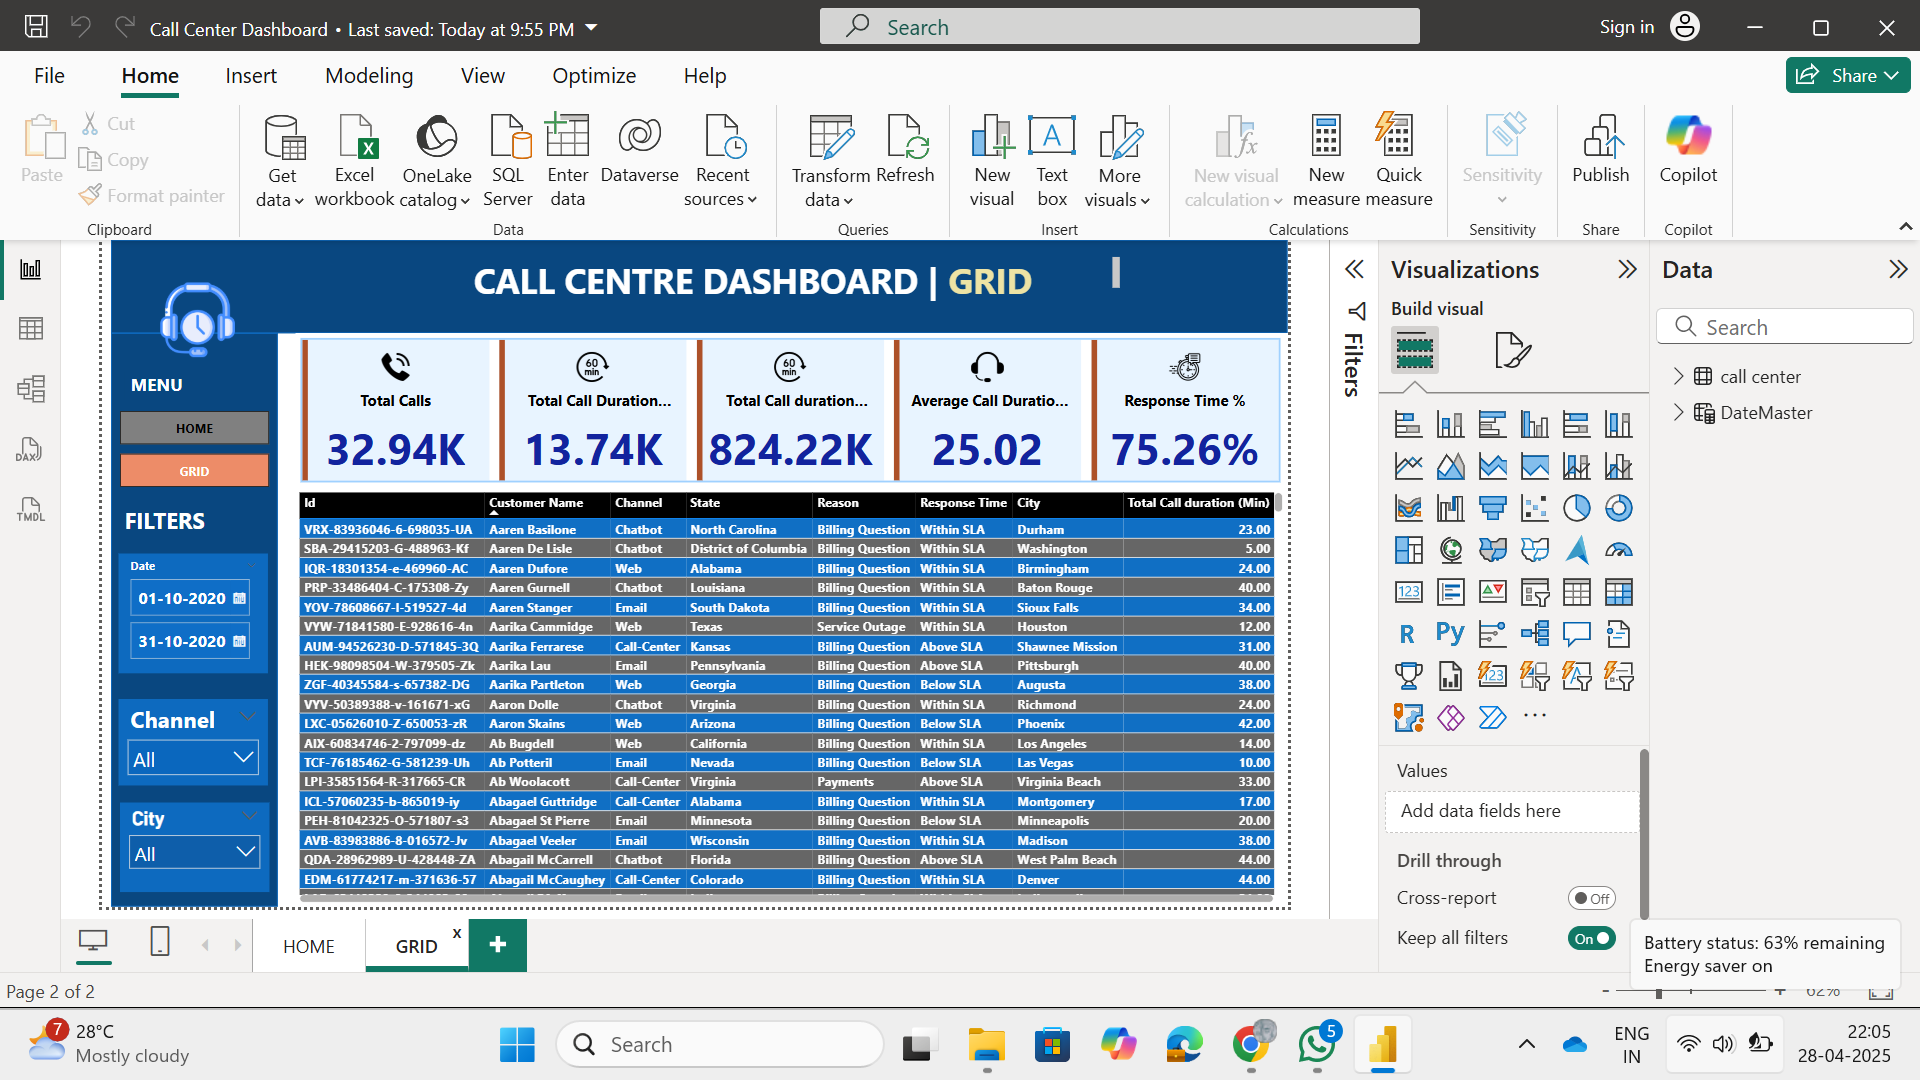

What the dashboard file says about the page in this screenshot:
{"tool":"powerbi","page":{"name":"GRID","canvas":[1280,720],"ordinal":1},"visuals":[{"type":"shape","box":[10.1,0,1269.9,100.8],"z":0},{"type":"textbox","box":[396,13,707,57.6],"z":1000},{"type":"cardVisual","fields":{"Data":["call center.Total Calls","call center.Total Call Duration (Hrs)","call center.Call duration (Min)","call center.Average Call Duration (Min)","call center.Response Time %"]},"box":[208.3,100.8,1071.7,166.3],"z":2000},{"type":"shape","box":[10.1,100.8,180,619.2],"z":3000},{"type":"image","box":[27.4,40.3,151.2,90.7],"z":4000},{"type":"pageNavigator","box":[20.2,184.3,161.3,82.1],"z":5000},{"type":"slicer","fields":{"Values":["DateMaster.Date"]},"box":[17.3,338.4,161.3,129.6],"z":6000},{"type":"slicer","fields":{"Values":["call center.Channel"]},"box":[17.3,495.4,161.3,93.6],"z":7000},{"type":"slicer","fields":{"Values":["call center.City"]},"box":[20.2,607.7,161.3,96.5],"z":8000},{"type":"textbox","title":"MENU","box":[20.2,142.6,79.2,31.7],"z":9000},{"type":"textbox","box":[20.2,279.4,112.3,46.1],"z":10000},{"type":"tableEx","fields":{"Values":["call center.Id","call center.Customer Name","call center.Channel","call center.State","call center.Reason","call center.Response Time","call center.City","call center.Total Call duration (Min)"]},"box":[208,267,1072,453],"z":11000}]}

Visuals, with their boxes on the page's 1280x720 design canvas (x1, y1, x2, y2). These are canvas units, not pixel positions in the 1920x1080 screenshot, which may show the page scaled, cropped or inside an application window:
shape: (10, 0, 1280, 101)
textbox: (396, 13, 1103, 71)
cardVisual - call center.Total Calls x call center.Total Call Duration (Hrs): (208, 101, 1280, 267)
shape: (10, 101, 190, 720)
image: (27, 40, 179, 131)
pageNavigator: (20, 184, 182, 266)
slicer - DateMaster.Date: (17, 338, 179, 468)
slicer - call center.Channel: (17, 495, 179, 589)
slicer - call center.City: (20, 608, 182, 704)
"MENU" textbox: (20, 143, 99, 174)
textbox: (20, 279, 132, 326)
tableEx - call center.Id x call center.Customer Name: (208, 267, 1280, 720)
